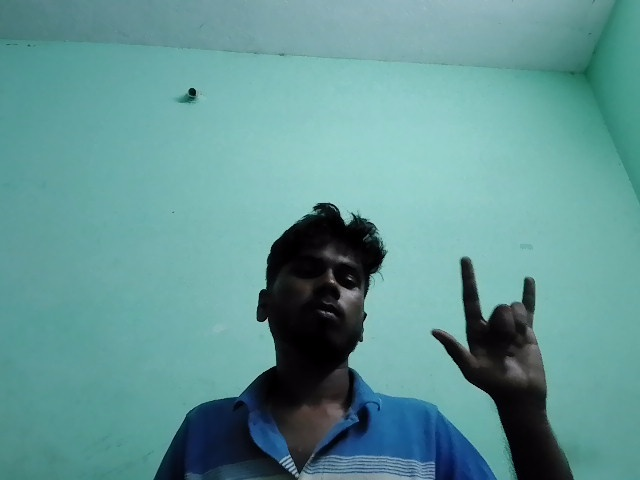I Love You: (412, 246, 606, 417)
